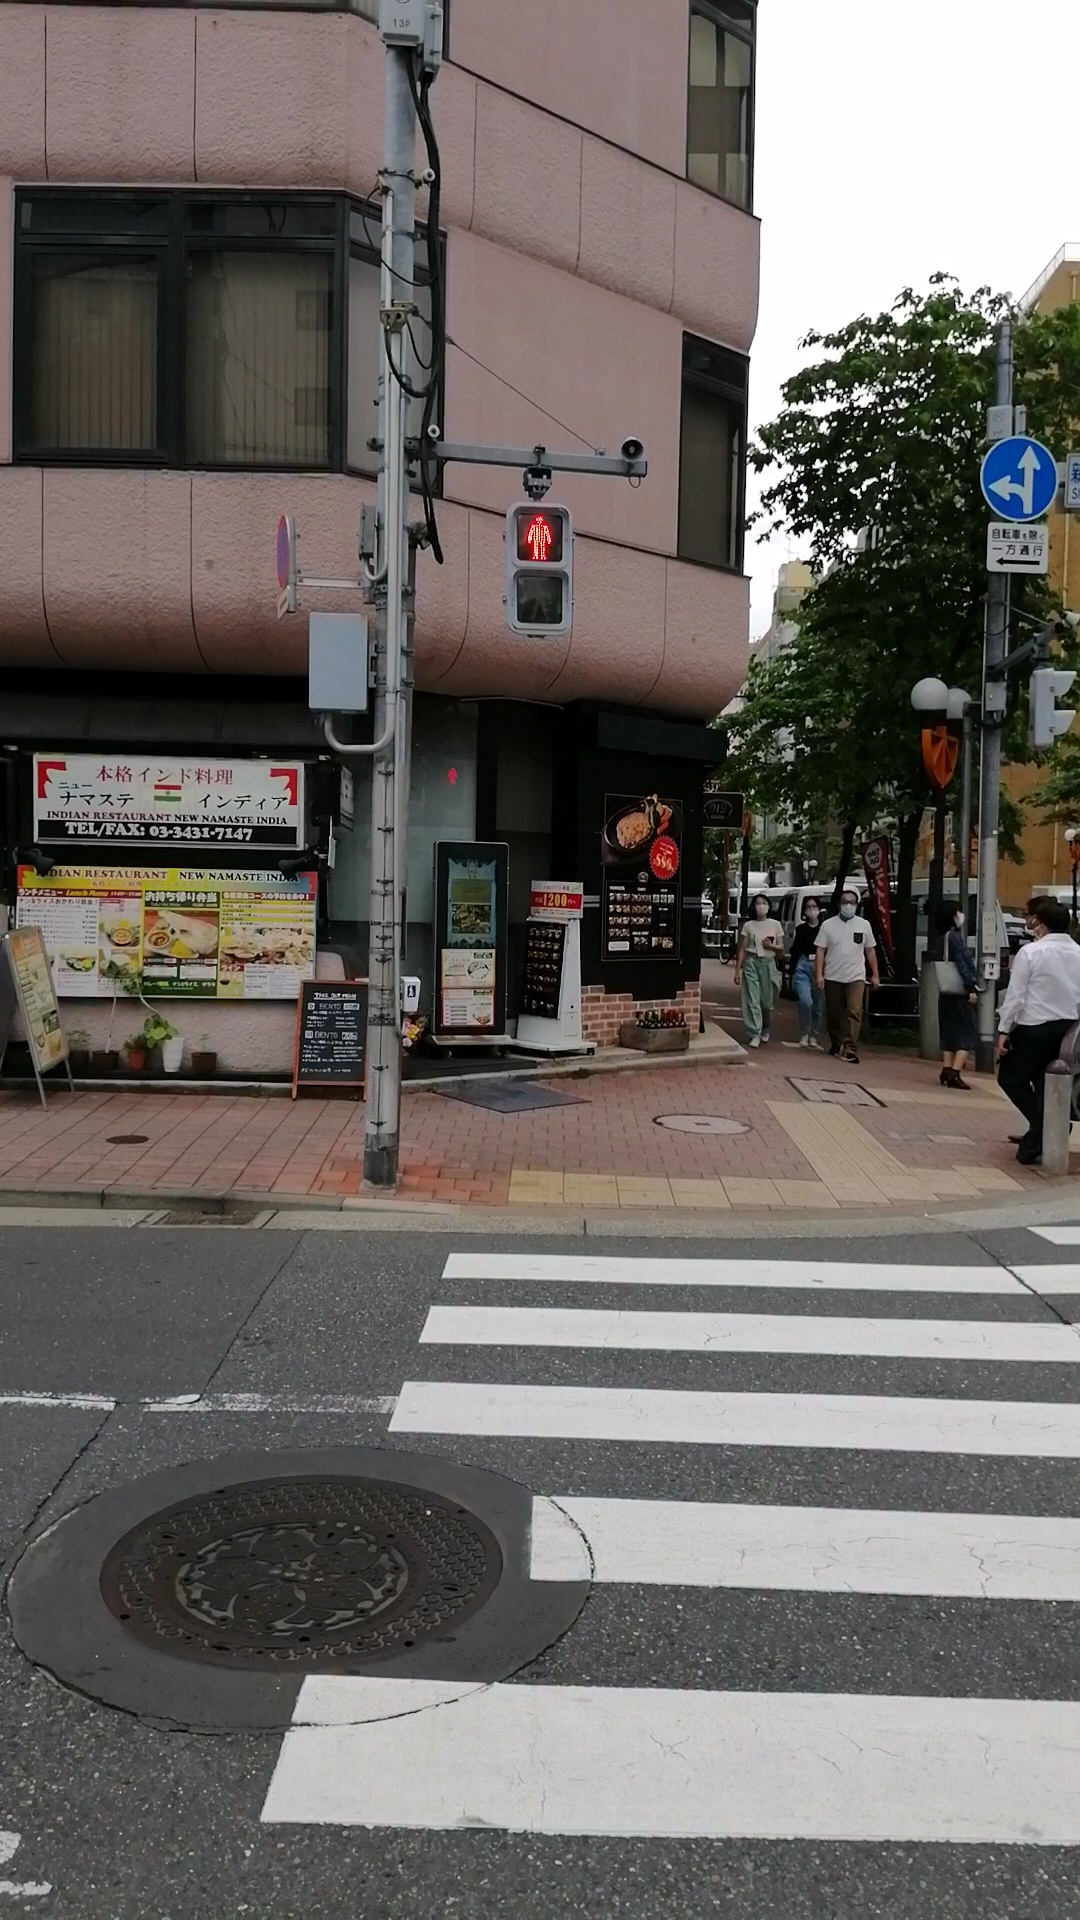red: (504, 501, 571, 634)
